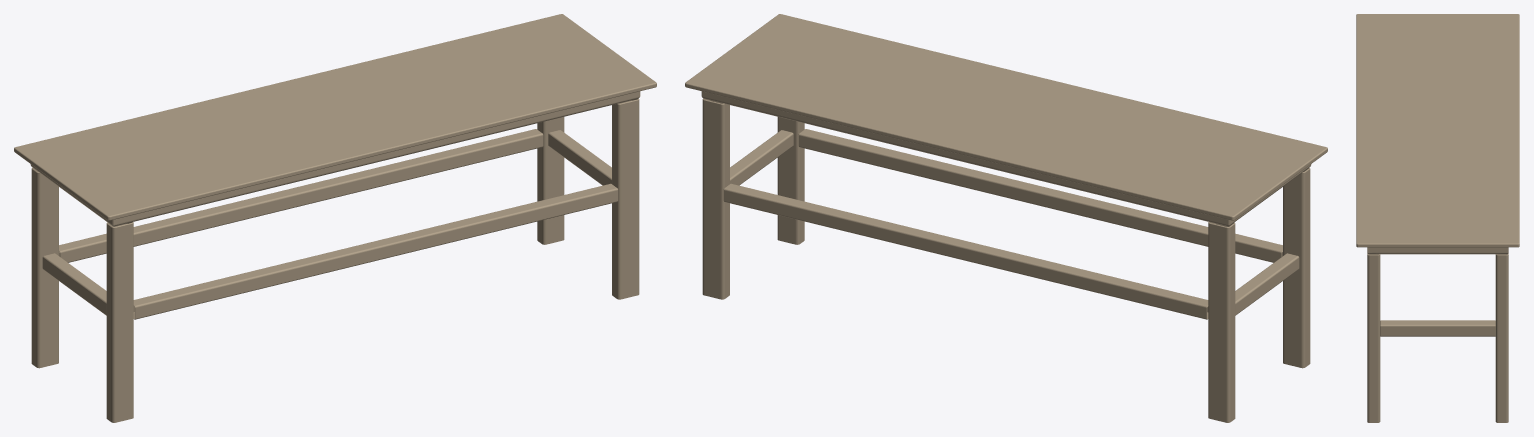
Rendered from Workbench.dae.
3 views of the same model, side by side, from view 1: azimuth 30°, elevation 25°; view 2: azimuth 150°, elevation 25°; view 3: azimuth 270°, elevation 25° (orthographic). The views are drawn at different scales.
Visible parts, largest first — view 1: node_75111c5e_2f05_4ee6_8144_b193d86c1321_mesh0; view 2: node_75111c5e_2f05_4ee6_8144_b193d86c1321_mesh0; view 3: node_75111c5e_2f05_4ee6_8144_b193d86c1321_mesh0.
Boxes of the visible parts, x1=… form: node_75111c5e_2f05_4ee6_8144_b193d86c1321_mesh0: x1=14, y1=14, x2=656, y2=422; node_75111c5e_2f05_4ee6_8144_b193d86c1321_mesh0: x1=685, y1=14, x2=1327, y2=422; node_75111c5e_2f05_4ee6_8144_b193d86c1321_mesh0: x1=1356, y1=14, x2=1519, y2=422.
Size of the model in its own units: 2.5 by 0.75 by 0.93.
